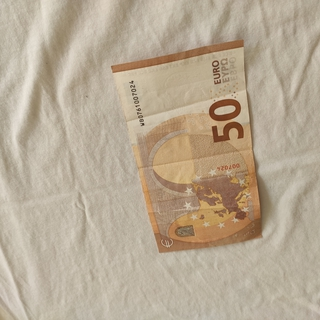50EUROBack: (109, 38, 263, 254)
